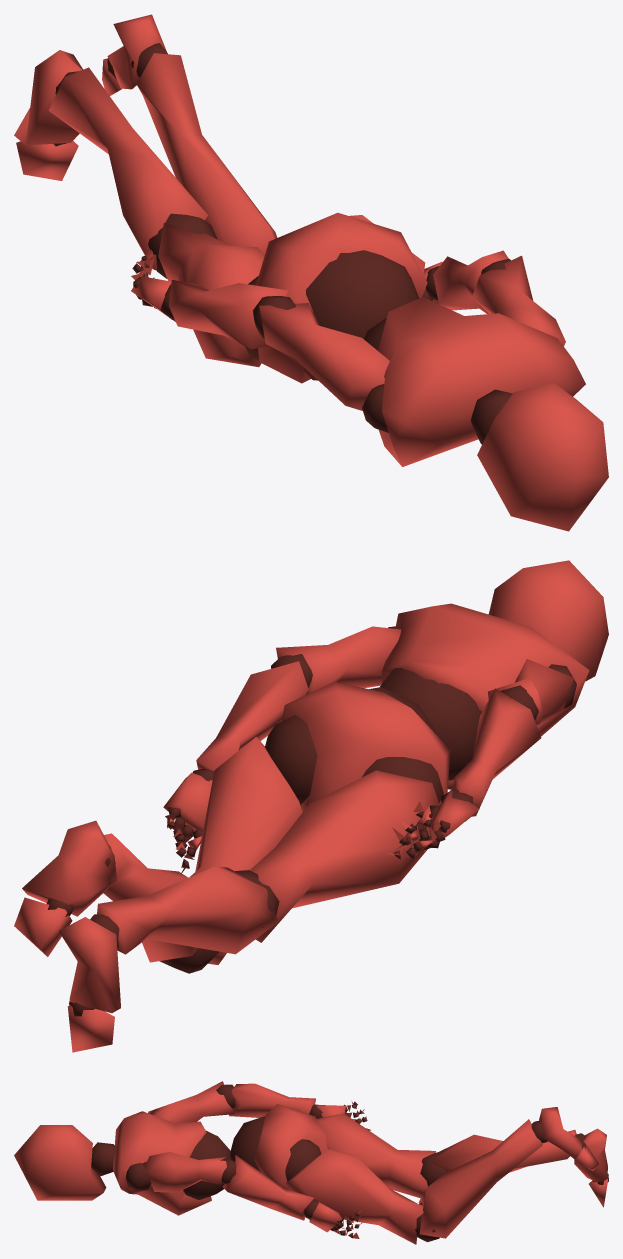
The picture shows the model from 3 angles, top to bottom: view 1: azimuth 30°, elevation 25°; view 2: azimuth 150°, elevation 25°; view 3: azimuth 270°, elevation 25°; orthographic projection. The views are drawn at different scales.
Visible parts, largest first — view 1: Beta_Surface, Beta_Joints; view 2: Beta_Surface, Beta_Joints; view 3: Beta_Surface, Beta_Joints.
Part boxes in pixels (left/top/right/bottom): Beta_Surface: left=14, top=14, right=608, bottom=531; Beta_Joints: left=53, top=43, right=512, bottom=444; Beta_Surface: left=14, top=560, right=608, bottom=1052; Beta_Joints: left=46, top=626, right=576, bottom=1016; Beta_Surface: left=14, top=1081, right=607, bottom=1244; Beta_Joints: left=91, top=1084, right=608, bottom=1242.
Bounding box in the file's own units: 0.6005 × 0.4337 × 1.8.
